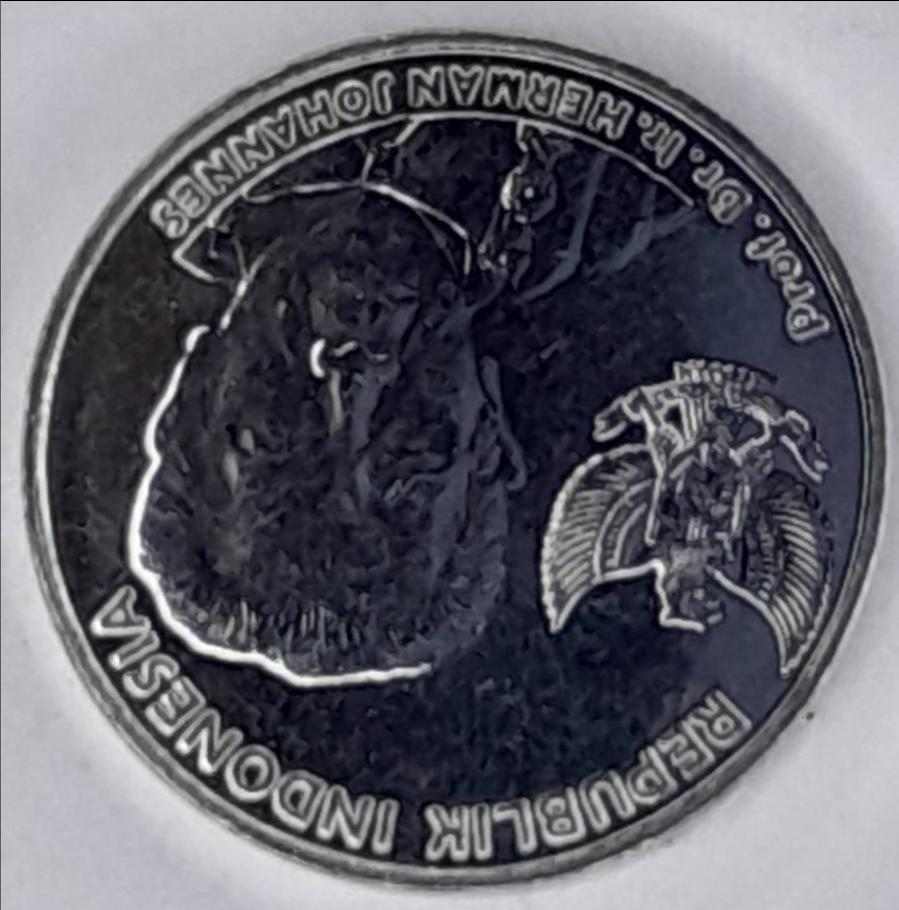coin_100_e2016: (18, 26, 893, 888)
